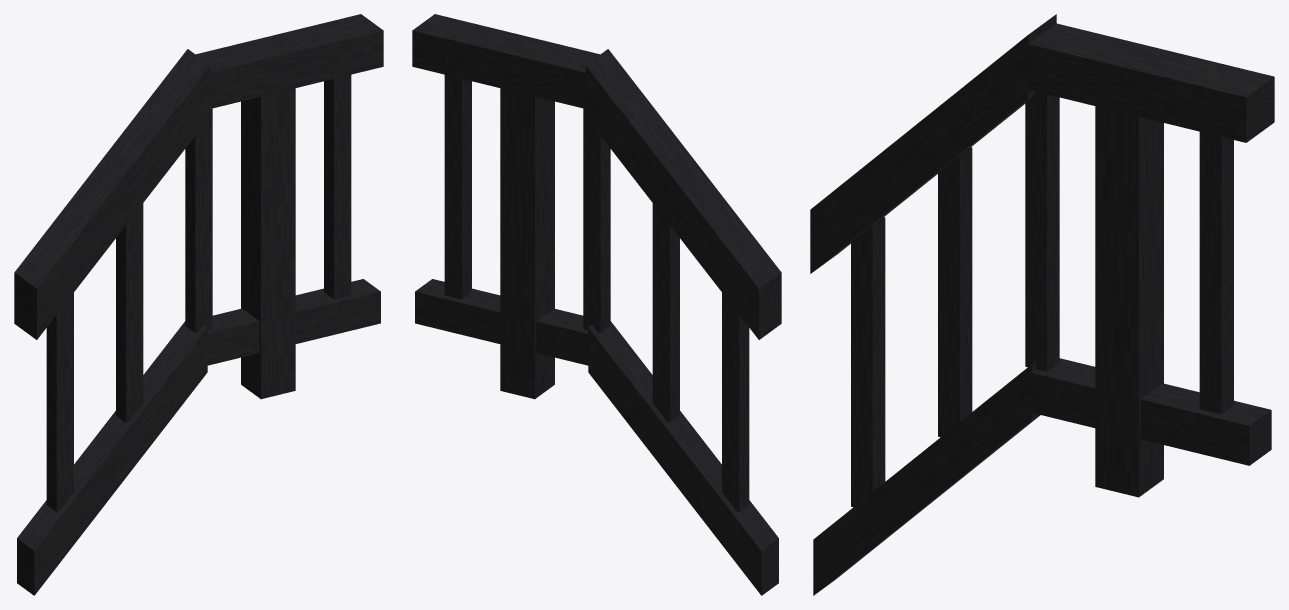
The model's file is top_pos.obj.
3 views of the same model, side by side, from view 1: azimuth 30°, elevation 25°; view 2: azimuth 150°, elevation 25°; view 3: azimuth 330°, elevation 25° (orthographic). The views are drawn at different scales.
Parts seen in each view (by area): view 1: railing_picket_black_top_pos; view 2: railing_picket_black_top_pos; view 3: railing_picket_black_top_pos.
Boxes of the visible parts, x1,y1,x2,y2 form: railing_picket_black_top_pos: (14, 14, 383, 595); railing_picket_black_top_pos: (412, 14, 781, 595); railing_picket_black_top_pos: (810, 14, 1274, 595).
Bounding box in the file's own units: 1 × 1.35 × 0.1125.
